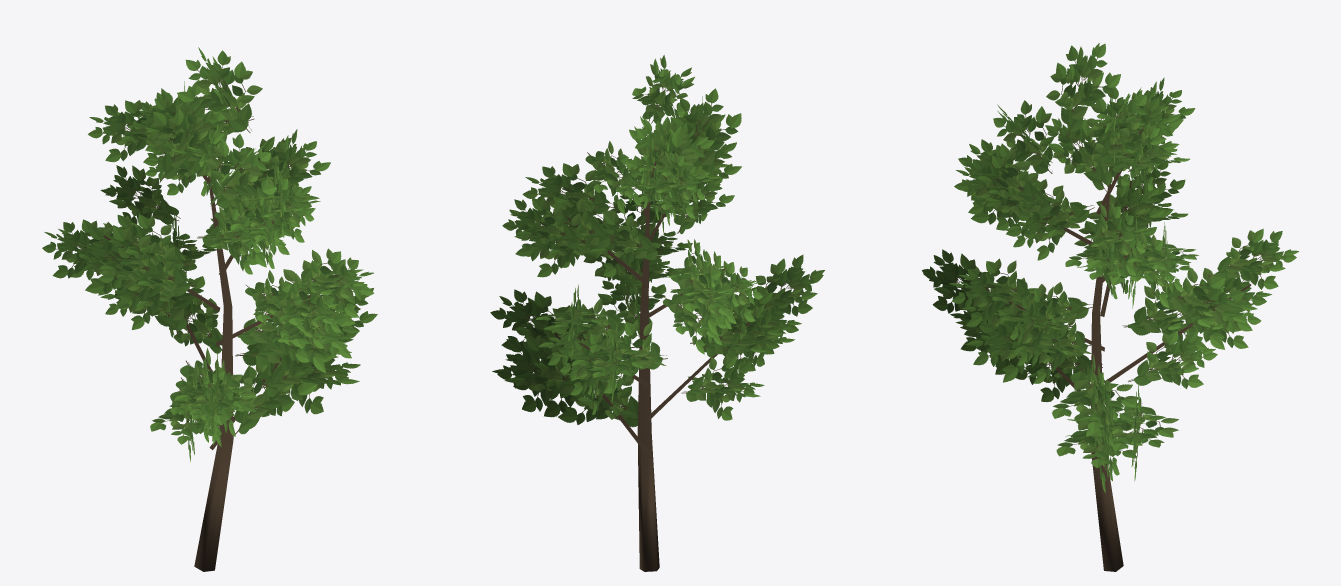
The model's file is Tall Shrub B.glb.
3 renders of one model, left to right at view 1: azimuth 30°, elevation 25°; view 2: azimuth 150°, elevation 25°; view 3: azimuth 270°, elevation 25°, orthographic. The views are drawn at different scales.
Parts seen in each view (by area): view 1: Tall Shrub B; view 2: Tall Shrub B; view 3: Tall Shrub B.
Boxes of the visible parts, x1,y1,x2,y2 form: Tall Shrub B: [42, 47, 377, 571]; Tall Shrub B: [490, 55, 824, 571]; Tall Shrub B: [922, 43, 1298, 571].
Bounding box in the file's own units: 2.12 × 3.2 × 2.29.
Materials: 1 (1 with a texture image).
